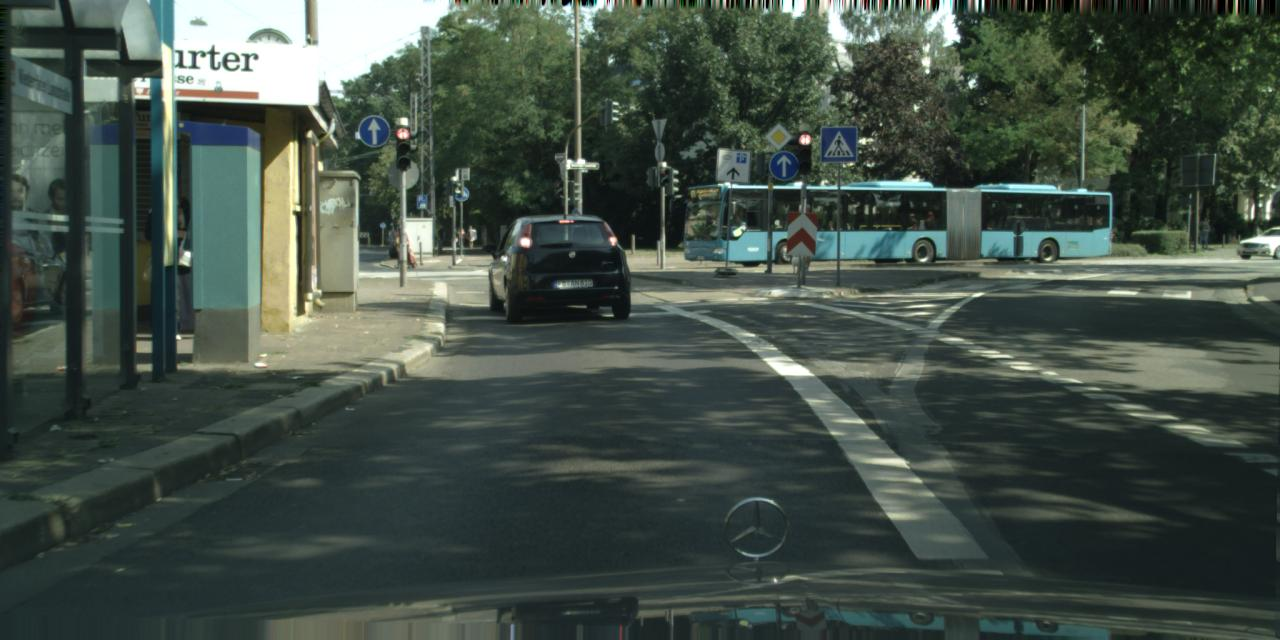ped: (394, 221, 412, 267), (1199, 218, 1211, 248), (466, 225, 474, 248), (456, 228, 464, 246)
